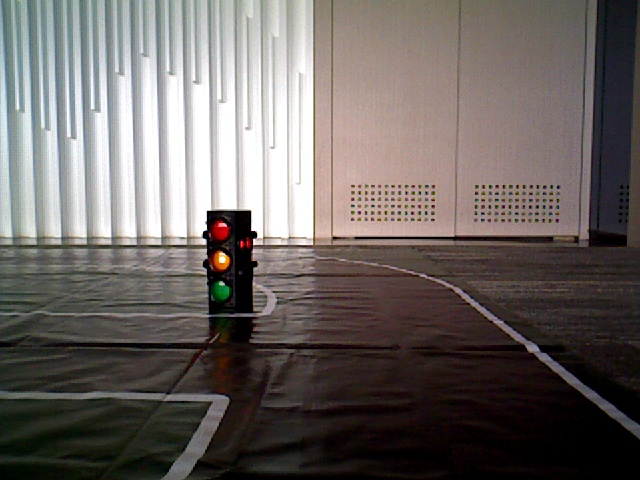yellow: (208, 214, 236, 305)
